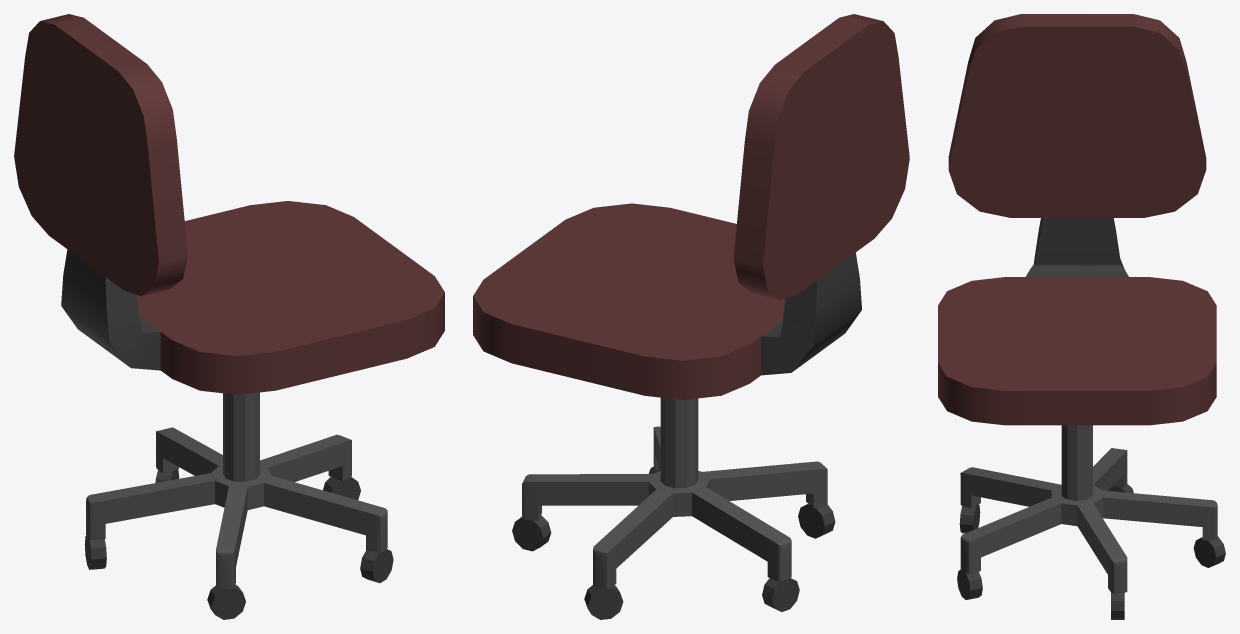
The model's file is officeChair.fbx.
The picture shows the model from 3 angles, left to right: view 1: azimuth 30°, elevation 25°; view 2: azimuth 150°, elevation 25°; view 3: azimuth 270°, elevation 25°; orthographic projection. The views are drawn at different scales.
Parts seen in each view (by area): view 1: pCube3, pCylinder2, pCylinder1, pCylinder5, pCylinder4, pCylinder6, pCylinder3; view 2: pCube3, pCylinder2, pCylinder1, pCylinder7, pCylinder3, pCylinder6, pCylinder5; view 3: pCube3, pCylinder2, pCylinder1, pCylinder7, pCylinder4, pCylinder5.
Part boxes in pixels (x1,y1,x2,y2): pCube3: (14,14,444,394); pCylinder2: (86,427,387,589); pCylinder1: (223,392,259,481); pCylinder5: (207,584,245,619); pCylinder4: (360,549,393,583); pCylinder6: (84,535,106,569); pCylinder3: (323,477,360,500); pCube3: (473,14,909,399); pCylinder2: (522,426,827,589); pCylinder1: (660,397,698,488); pCylinder7: (584,585,623,619); pCylinder3: (512,515,551,551); pCylinder6: (762,578,799,611); pCylinder5: (798,503,835,538); pCube3: (938,14,1216,425); pCylinder2: (960,448,1217,593); pCylinder1: (1061,425,1092,500); pCylinder7: (1193,536,1225,567); pCylinder4: (957,569,982,599); pCylinder5: (959,504,980,533).
Size of the model in its own units: 10.11 by 16.97 by 9.17.
